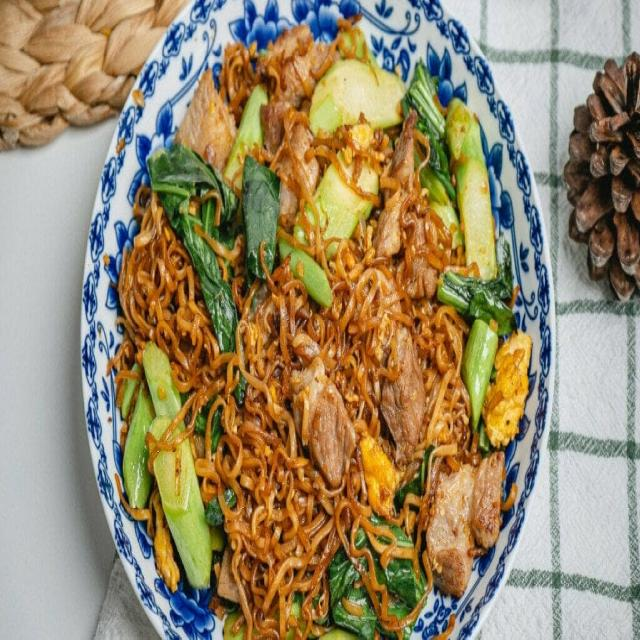carb: (203, 359, 320, 608), (121, 218, 218, 414)
meat: (363, 280, 428, 444), (426, 457, 504, 589), (293, 343, 356, 481)
stir-fried instant noodles: (88, 68, 540, 626)
vegetable: (156, 146, 350, 292), (353, 60, 504, 246)
